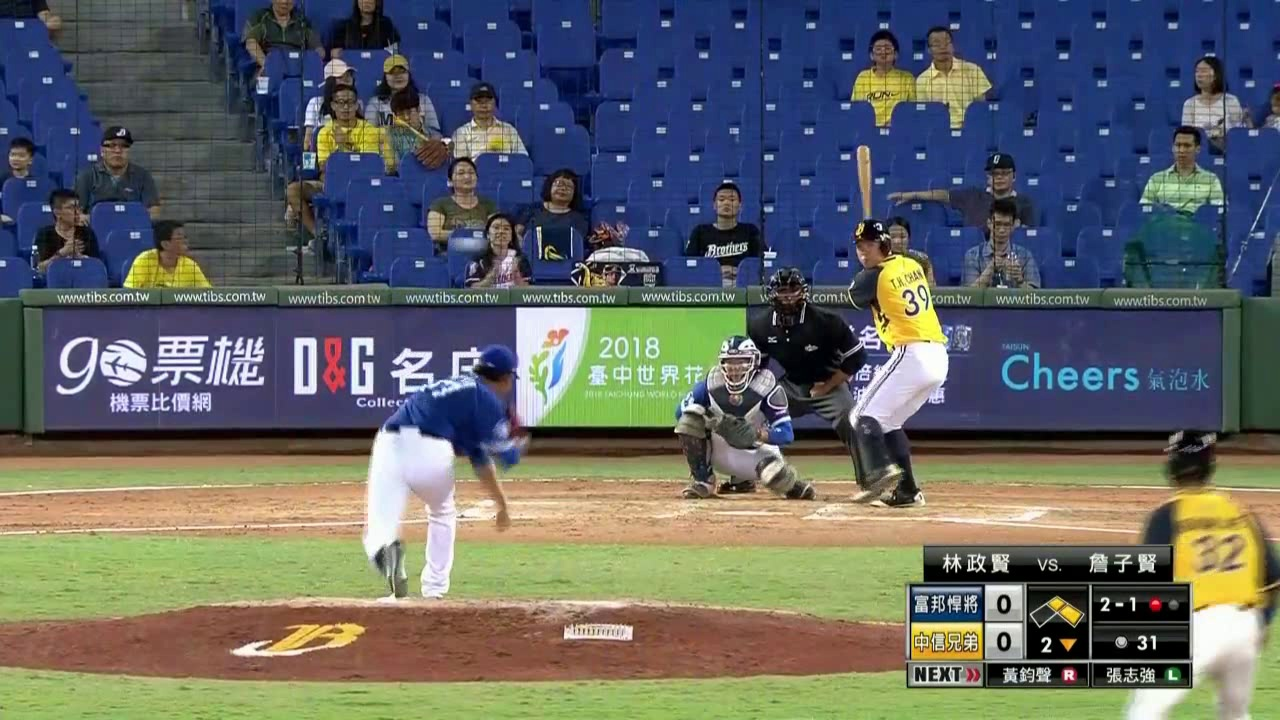ball: (460, 236, 476, 253)
base: (1028, 588, 1085, 628)
bat: (853, 140, 879, 227)
out: (1143, 587, 1185, 616)
score1: (986, 587, 1019, 618)
score2: (986, 626, 1021, 655)
session: (1027, 629, 1087, 660)
strikeball: (1090, 586, 1142, 620)
total: (1093, 626, 1189, 657)
